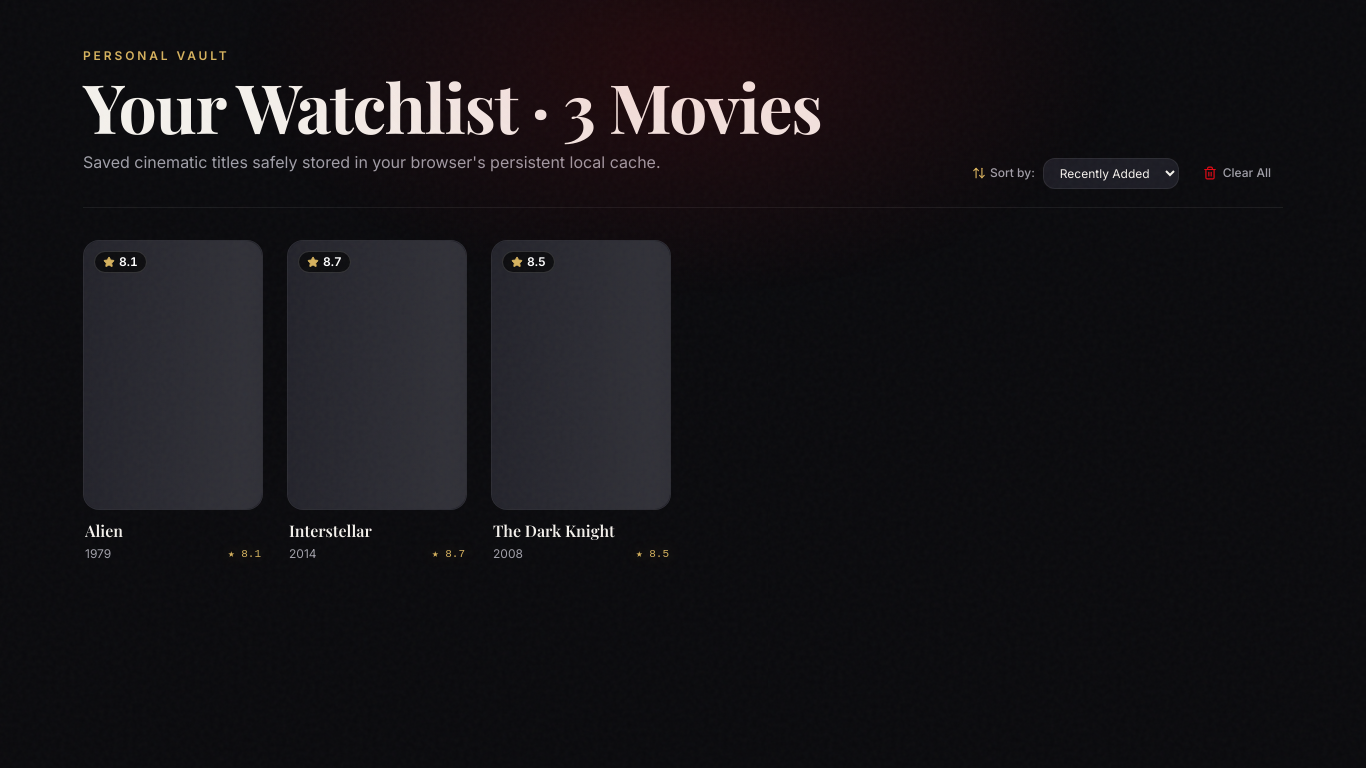
Watchlist Page › purges all items on confirming Clear All and renders empty state
What coordinates should you click on to do the following:
click the button "Clear All"
I would click on:
 (1237, 173)
Its box is [1191,155,1283,191].
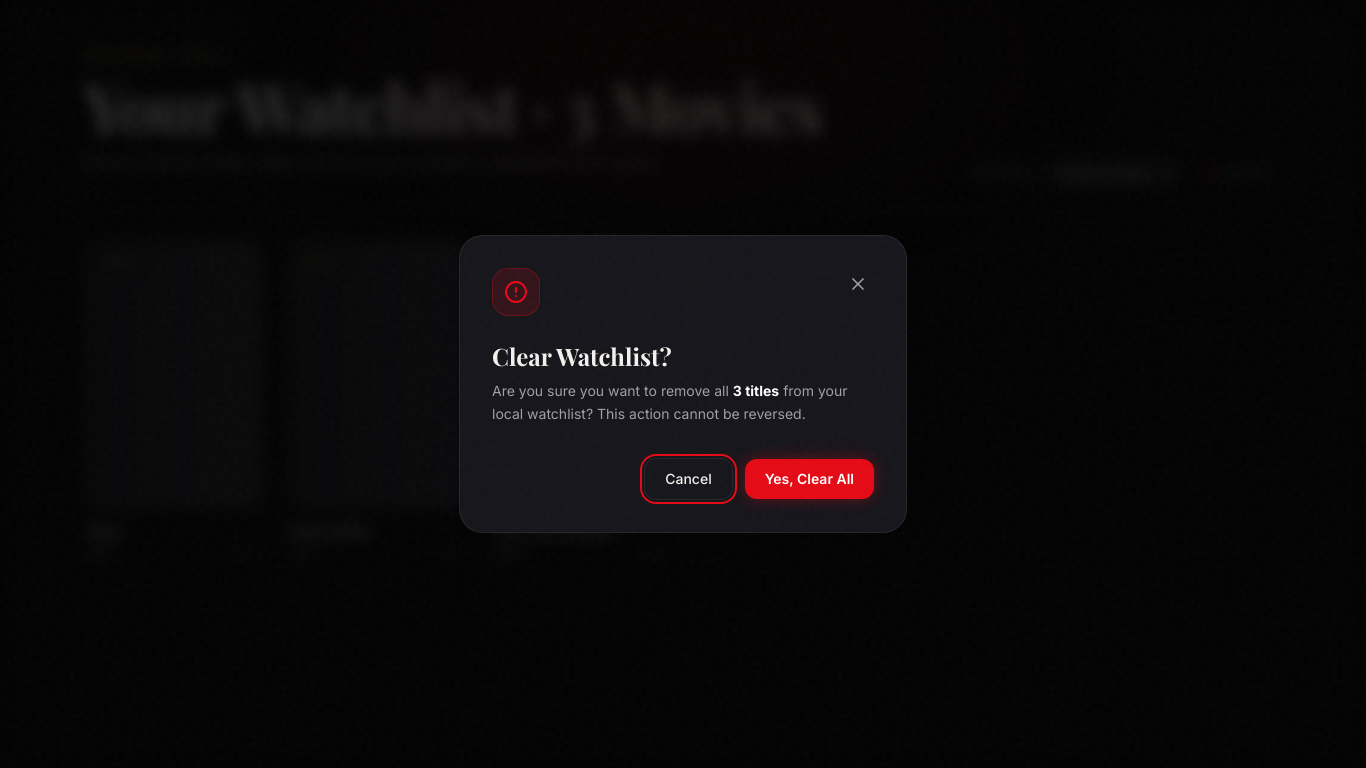
What coordinates should you click on to do the following:
click the button "Yes, Clear All"
I would click on:
 (809, 479)
Its box is [745,459,874,499].
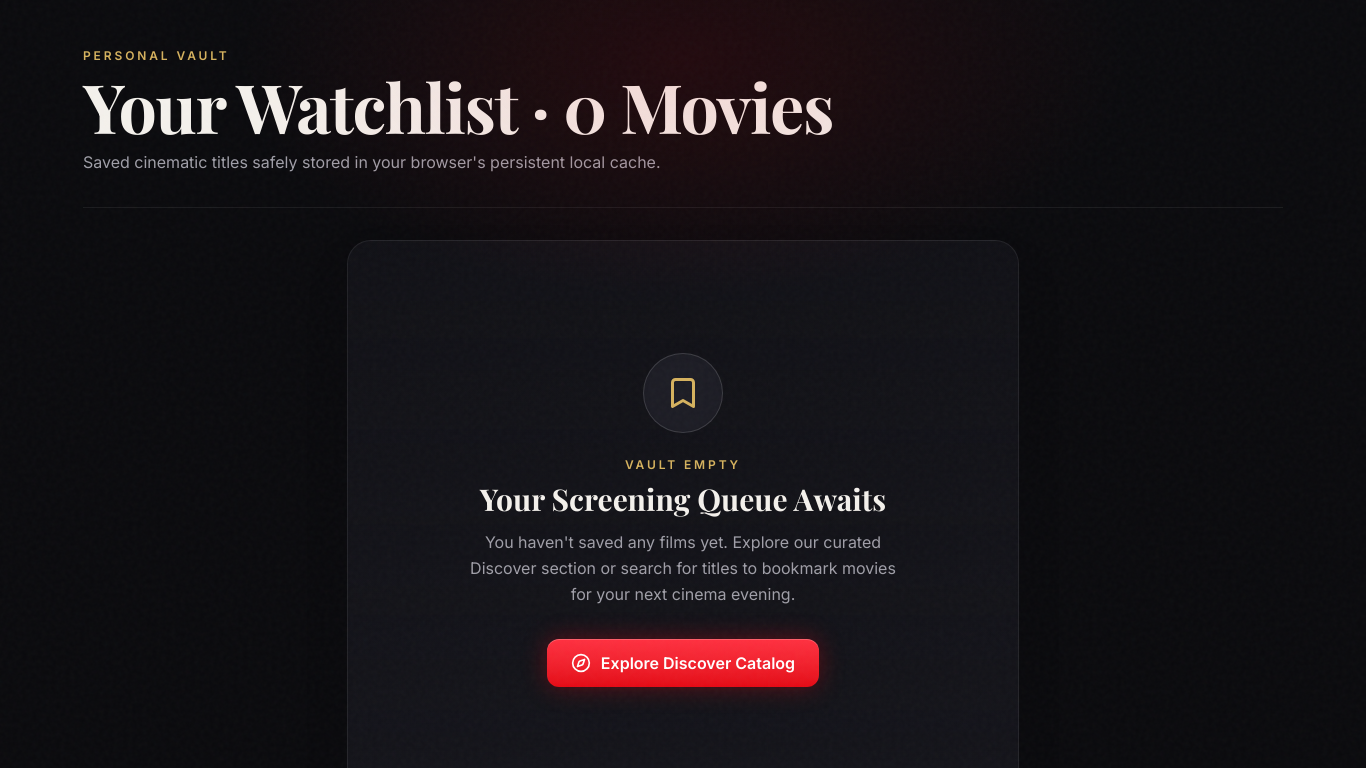
Expected: the link "Alien" is not shown
Result: the dialog is gone
Result: the heading "Your Screening Queue Awaits" is shown at [480,481,886,517]
